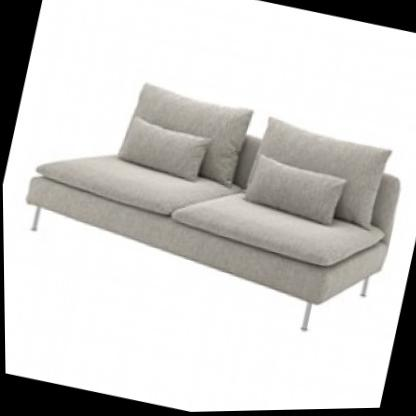Sofa: (1, 38, 416, 361)
